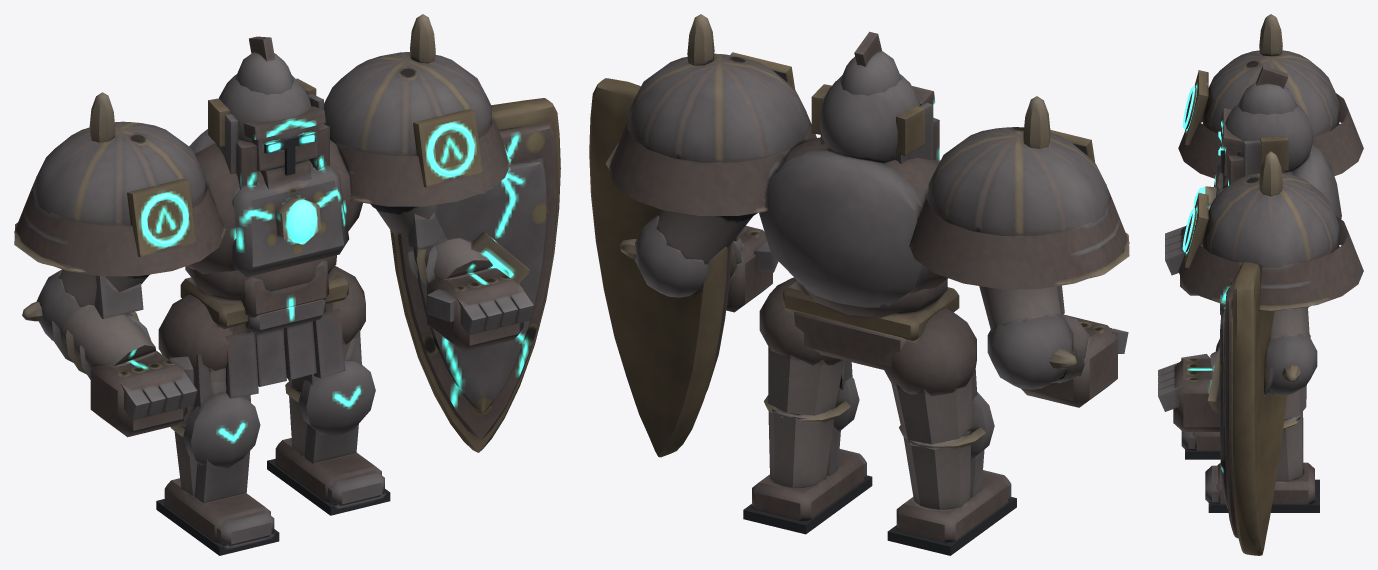
Rendered from SM_Champion_9001_Alesk.glb.
3 views of the same model, side by side, from view 1: azimuth 30°, elevation 25°; view 2: azimuth 150°, elevation 25°; view 3: azimuth 270°, elevation 25° (orthographic). The views are drawn at different scales.
Parts seen in each view (by area): view 1: Alesk; view 2: Alesk; view 3: Alesk.
Boxes of the visible parts, x1,y1,x2,y2 form: Alesk: (14, 14, 560, 555); Alesk: (589, 14, 1129, 555); Alesk: (1158, 14, 1363, 555).
Size of the model in its own units: 3.1 by 2.66 by 1.22.
1 material, 1 textured.
